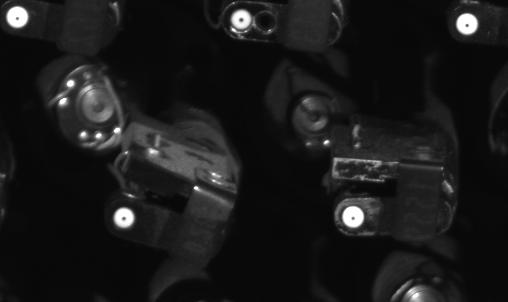fiber: (227, 5, 263, 40), (337, 201, 374, 231), (452, 12, 484, 40), (110, 201, 136, 235), (3, 4, 36, 29)
